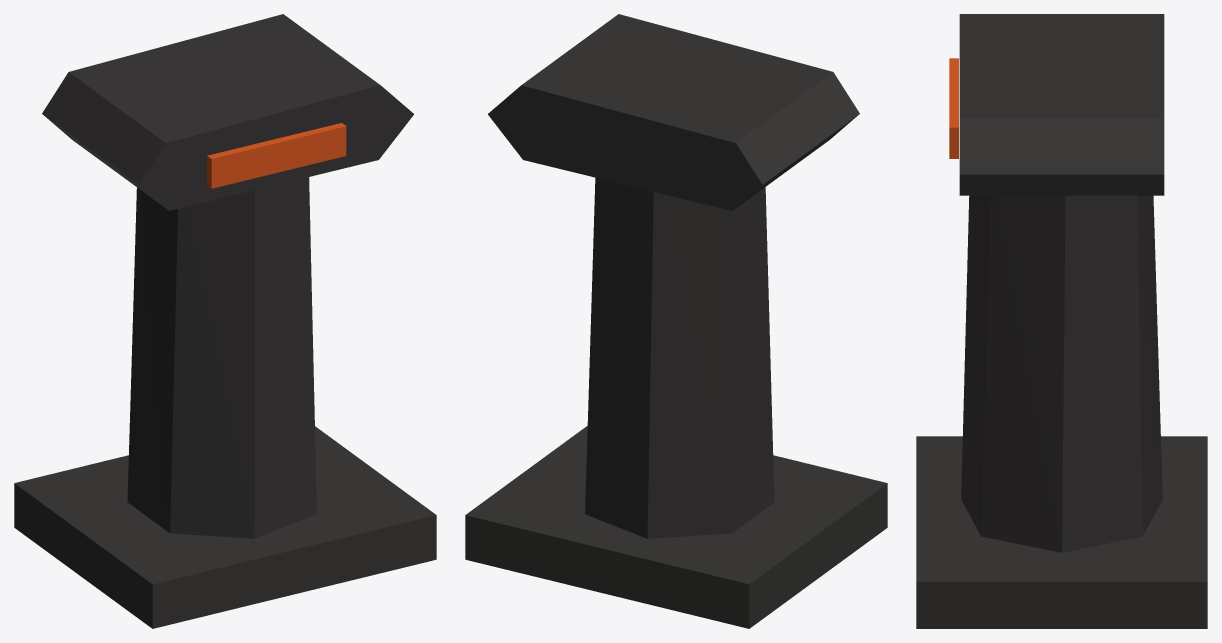
Rendered from exhaust_stack.glb.
The picture shows the model from 3 angles, left to right: view 1: azimuth 30°, elevation 25°; view 2: azimuth 150°, elevation 25°; view 3: azimuth 270°, elevation 25°; orthographic projection. The views are drawn at different scales.
Visible parts, largest first — view 1: exhaust_stack; view 2: exhaust_stack; view 3: exhaust_stack.
Part boxes in pixels (x1,y1,x2,y2): exhaust_stack: (14,14,436,628); exhaust_stack: (465,14,887,628); exhaust_stack: (916,14,1207,628).
Bounding box in the file's own units: 1.6 × 2.52 × 1.35.
